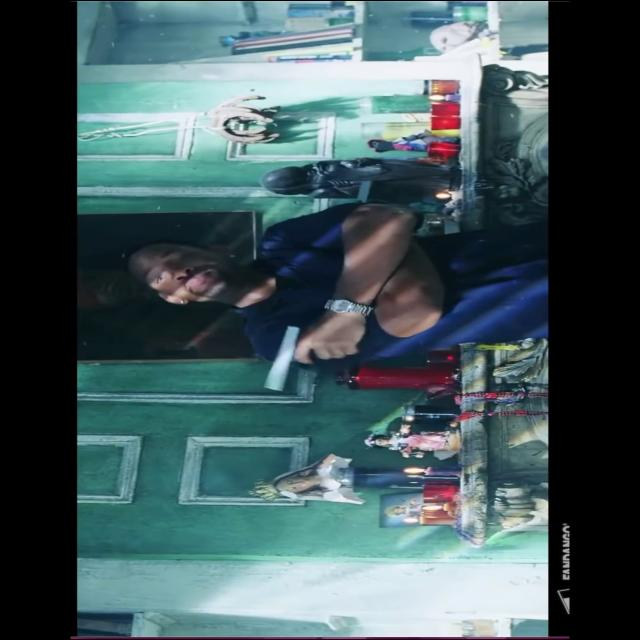weapons: (250, 318, 368, 402)
